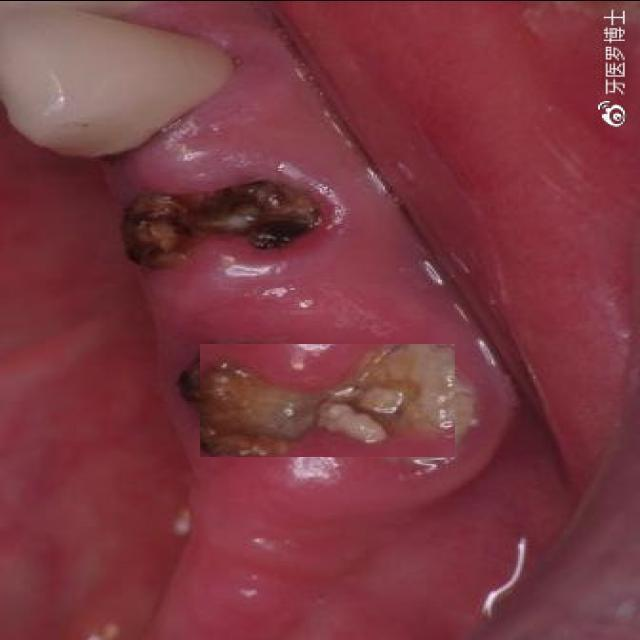decay: (200, 343, 455, 456), (145, 187, 307, 264)
